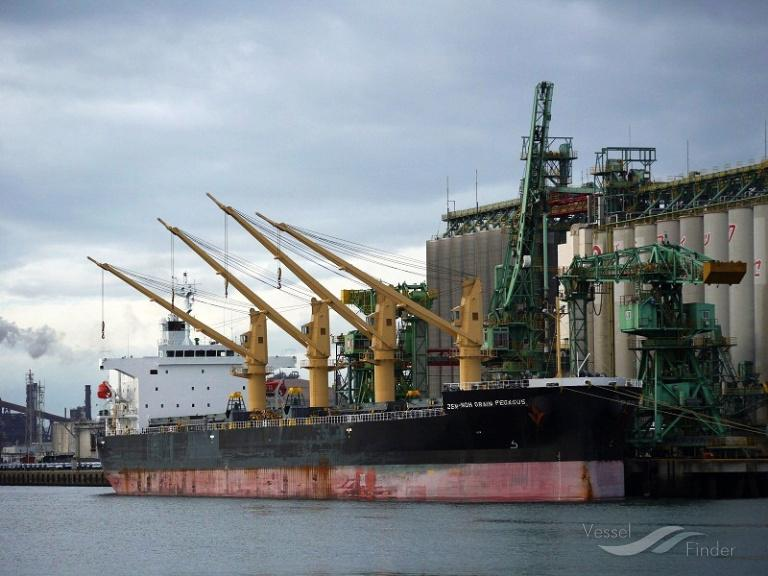OCR: (444, 395, 534, 412)
